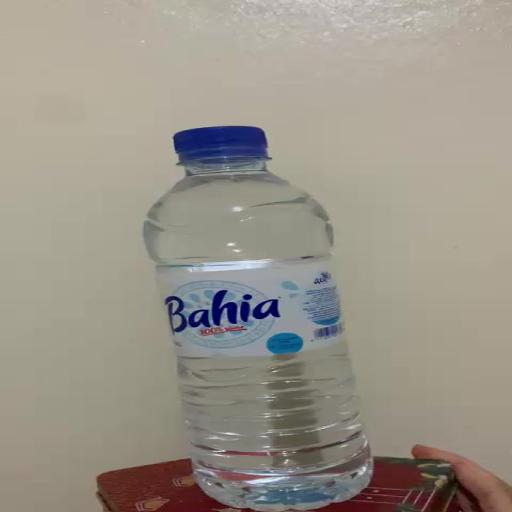bouteille conformite: (150, 105, 412, 512)
